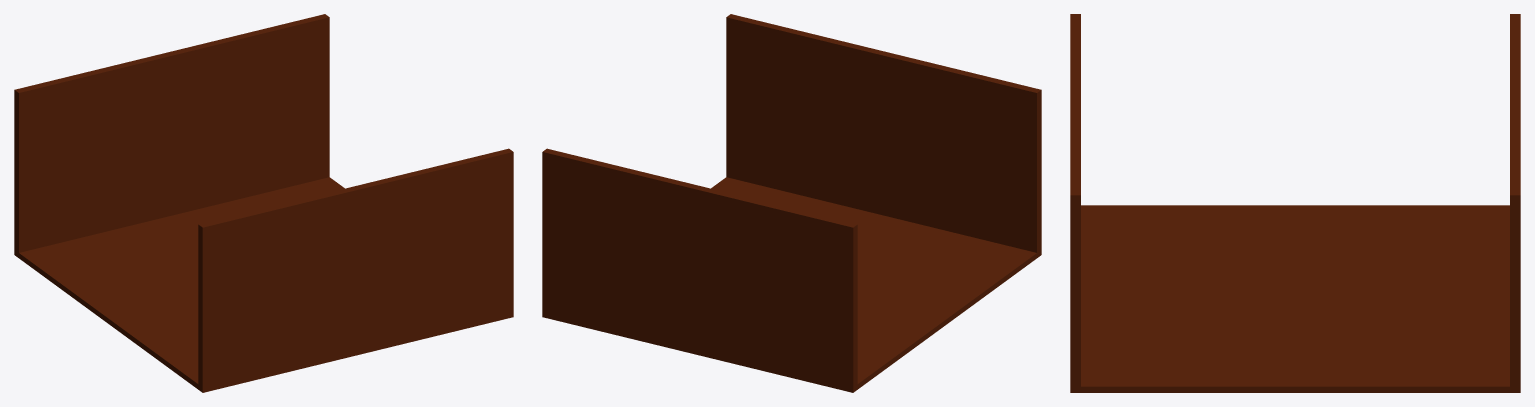
File: muri_00.fbx
3 views of the same model, side by side, from view 1: azimuth 30°, elevation 25°; view 2: azimuth 150°, elevation 25°; view 3: azimuth 270°, elevation 25° (orthographic). The views are drawn at different scales.
Visible parts, largest first — view 1: Cube; view 2: Cube; view 3: Cube.
Boxes of the visible parts, bbox=[...] form: Cube: bbox=[14, 14, 513, 392]; Cube: bbox=[542, 14, 1041, 392]; Cube: bbox=[1070, 14, 1520, 392].
Size of the model in its own units: 3000 by 1525 by 3150.
